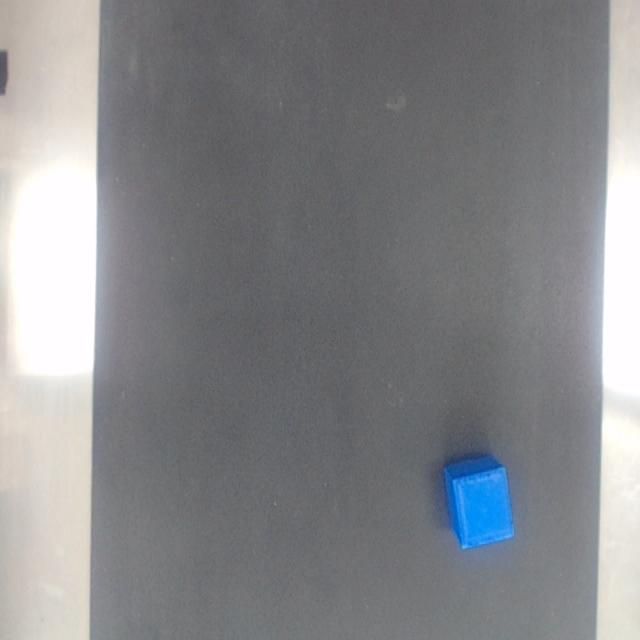Azul: (444, 456, 513, 548)
